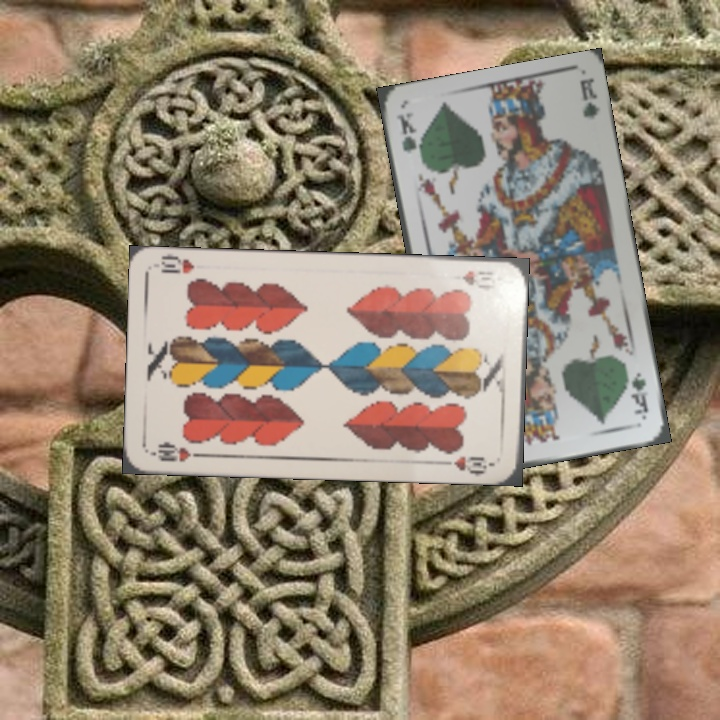GK: (392, 108, 419, 155), (627, 368, 650, 420)
H10: (148, 439, 207, 464), (458, 267, 498, 291)
